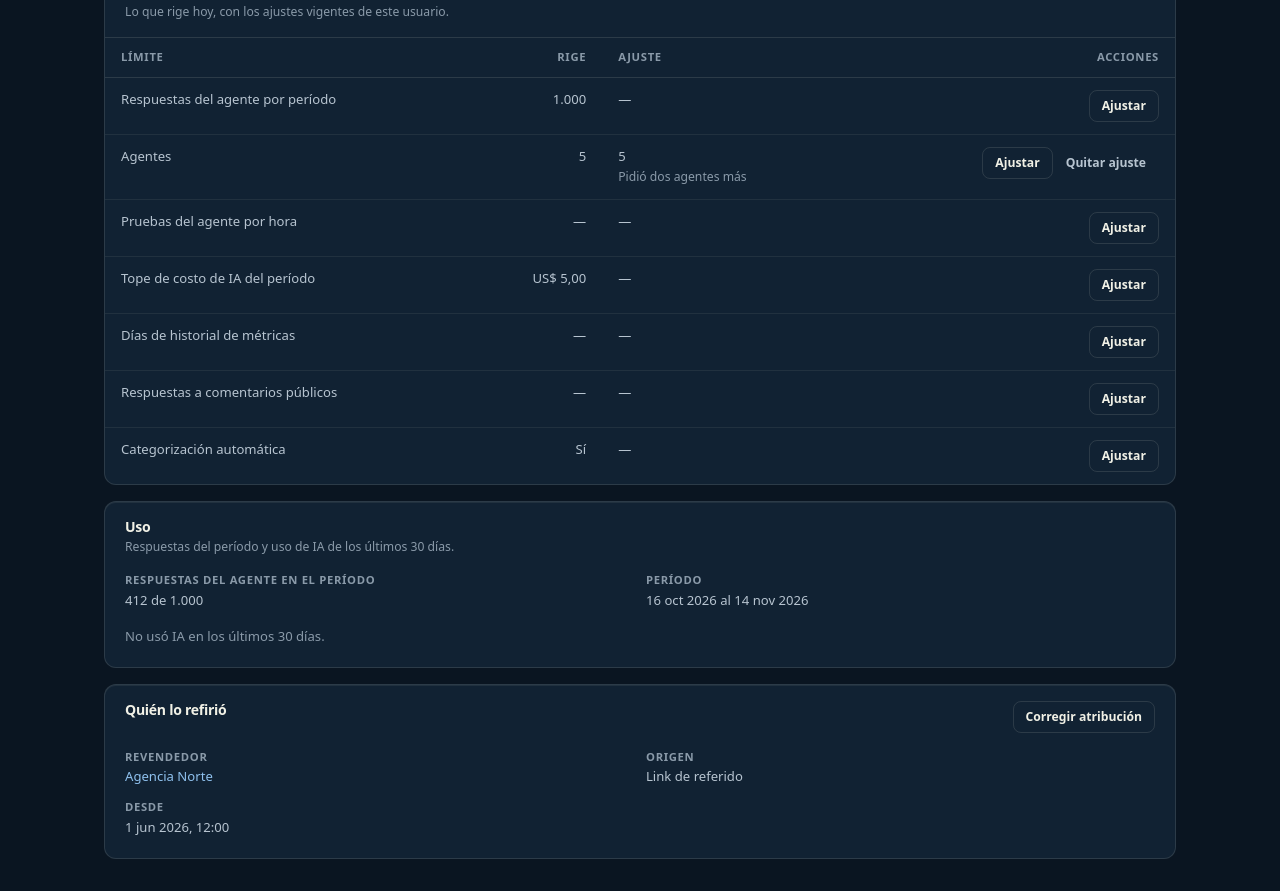
Test case: CustomerDetailScreen › corrects the attribution, says where the commissions go and loads the detail again
(page scrolled)
Click the button "Corregir atribución" at [1084, 716], box x1=1012 y1=700 x2=1155 y2=732
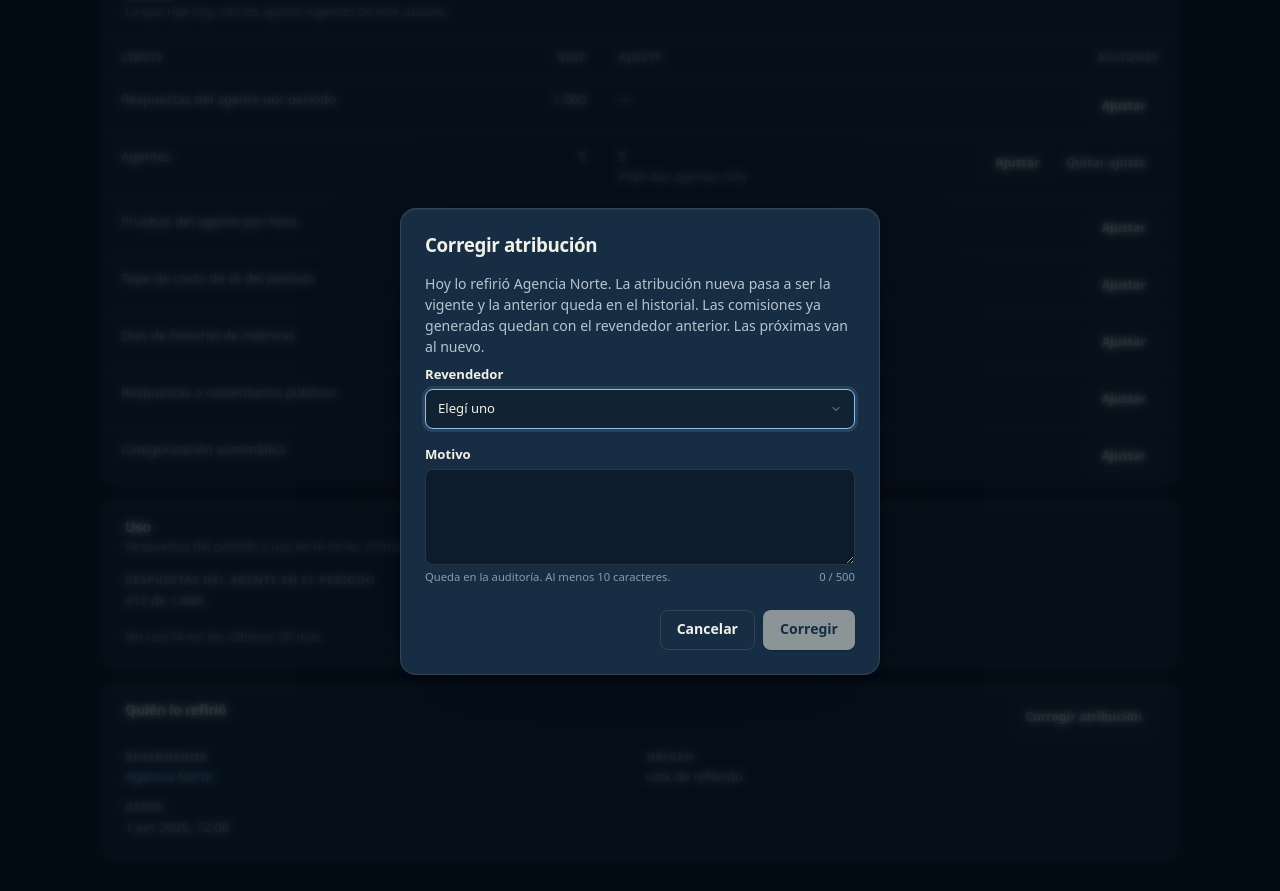
Result: the text "Las comisiones ya generadas quedan con el revendedor anterior. Las próximas van al nuevo." is shown at x1=425 y1=274 x2=848 y2=356
Select "Estudio Delta" in the dropdown labelled "Revendedor" at [640, 409], box x1=425 y1=389 x2=855 y2=429
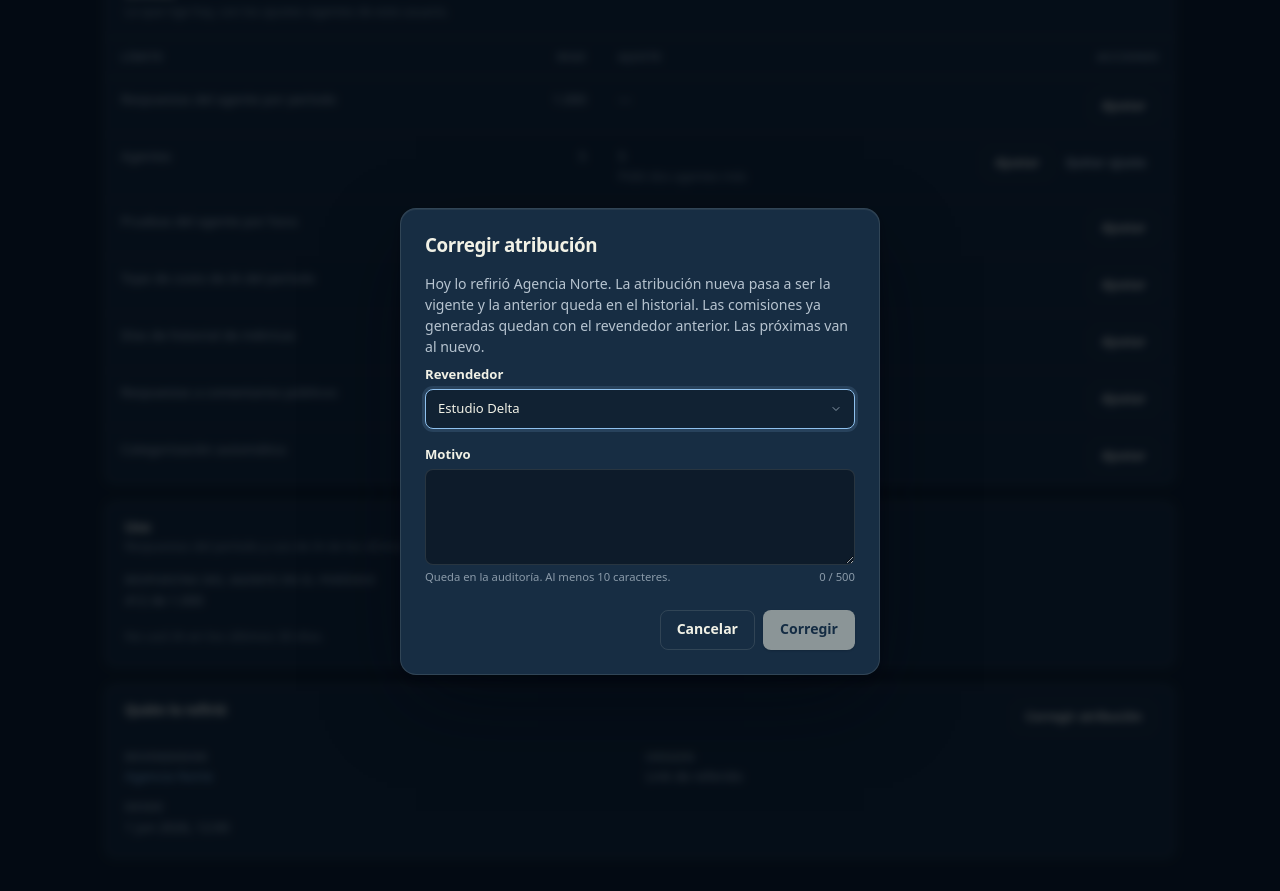
Type "Lo pidió el cliente por mail" into the text box labelled "Motivo" at [640, 517], box x1=425 y1=469 x2=855 y2=565
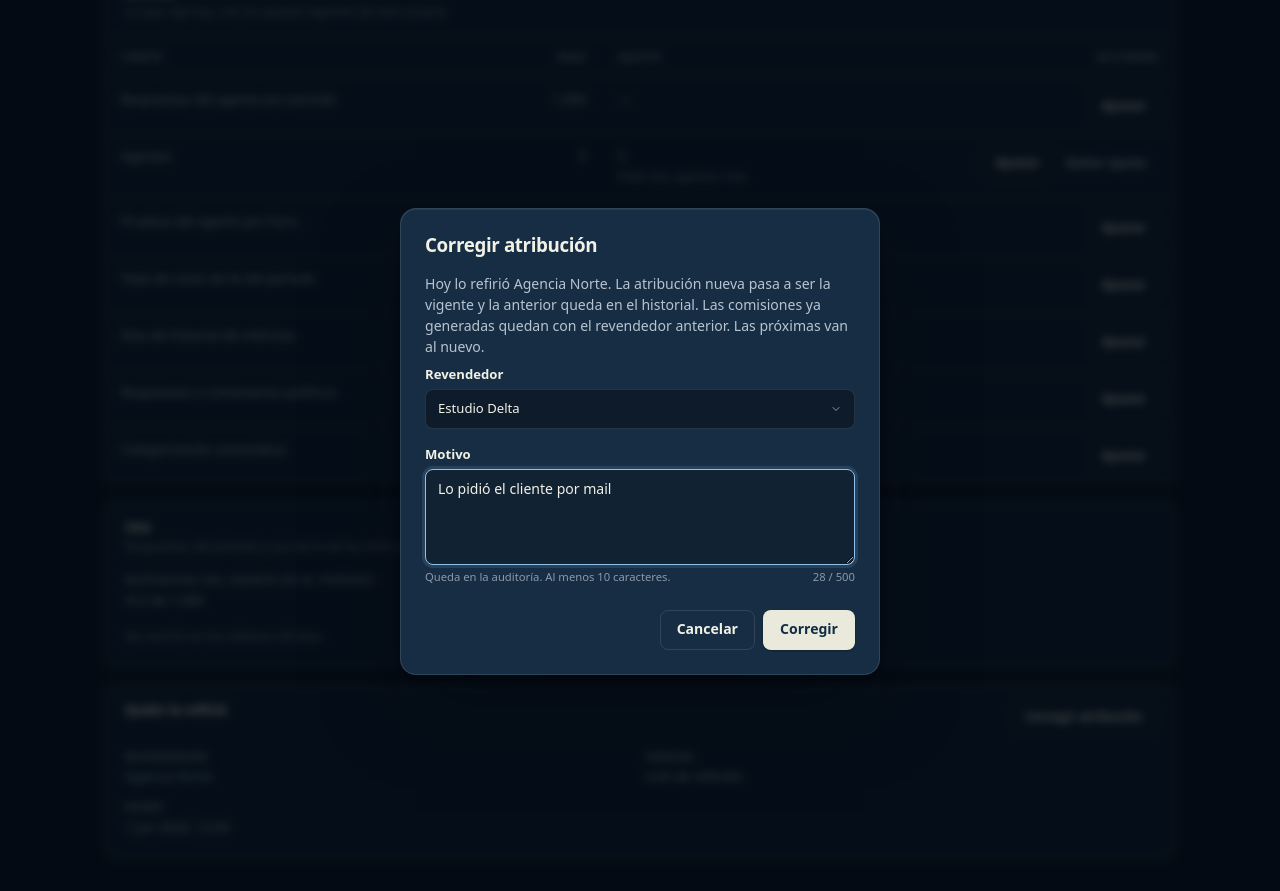
Click the button "Corregir" at [809, 630], box x1=763 y1=610 x2=855 y2=650
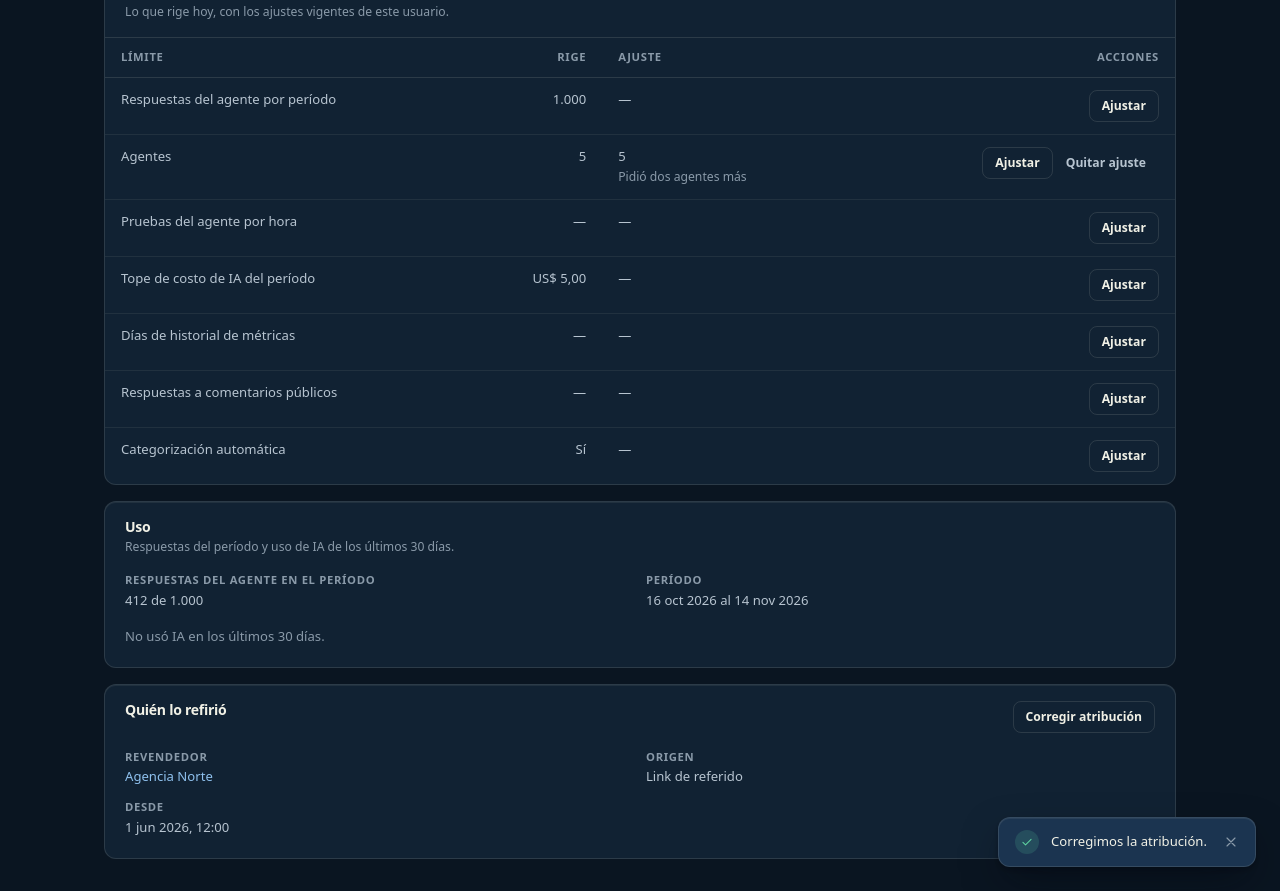
Result: the text "Corregimos la atribución." is shown at x1=1051 y1=832 x2=1207 y2=852
